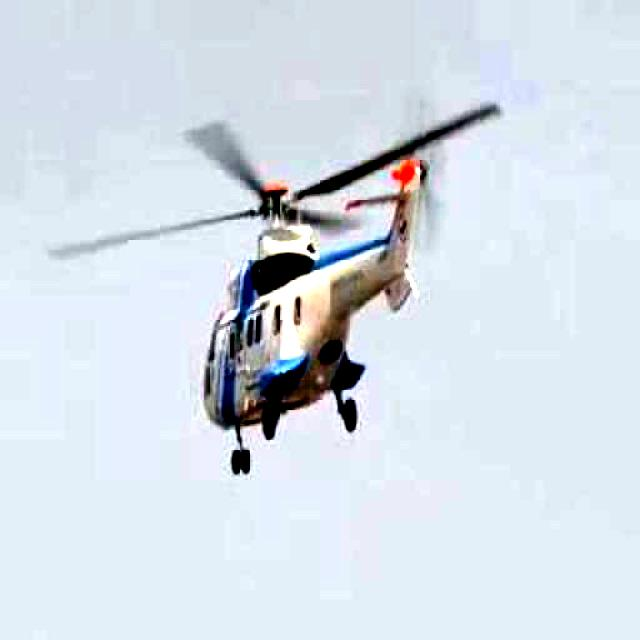drone: (31, 58, 551, 486)
